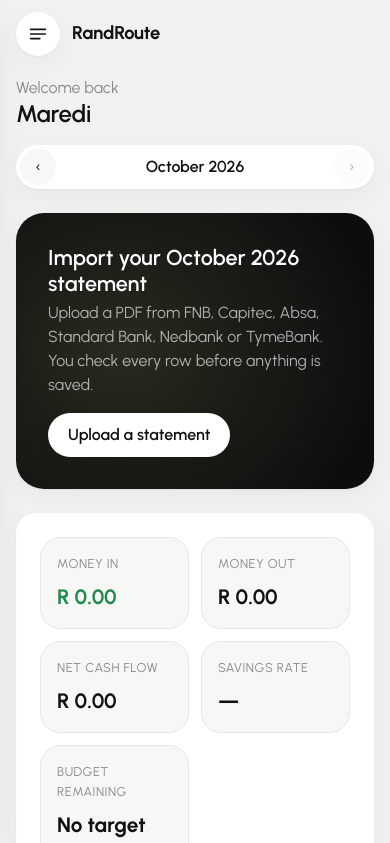
Test: side navigation › opens and closes the mobile drawer
Click the button named "Open navigation" at (38, 34), box [16,12,60,56]
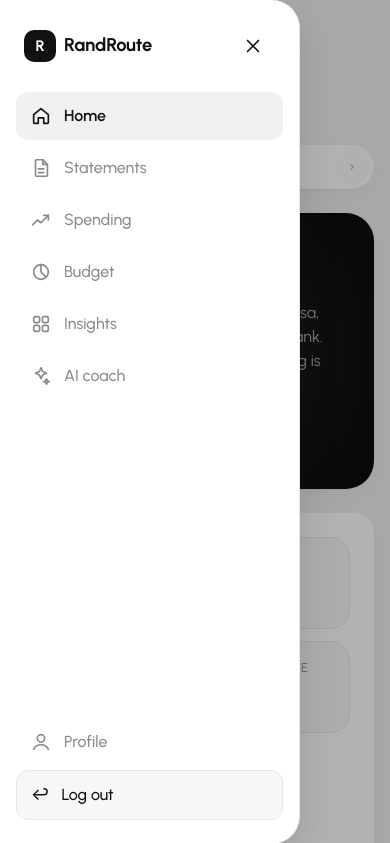
Now the button named "Open navigation" is expanded, box [16,12,60,56]
Press Escape
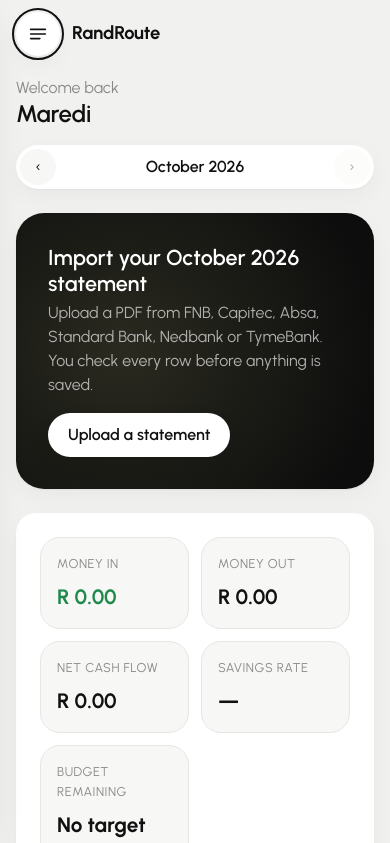
Now the button named "Open navigation" is collapsed, box [16,12,60,56]
